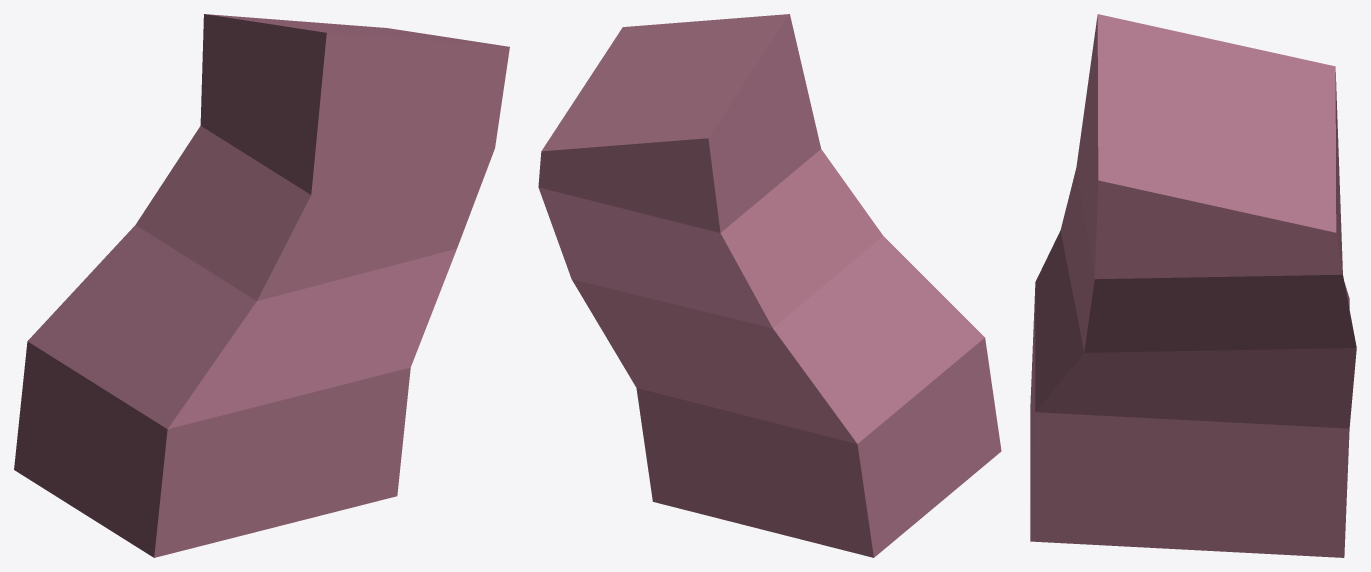
Rendered from Arch_02.fbx.
3 views of the same model, side by side, from view 1: azimuth 30°, elevation 25°; view 2: azimuth 150°, elevation 25°; view 3: azimuth 270°, elevation 25° (orthographic). The views are drawn at different scales.
Parts seen in each view (by area): view 1: Arch_02; view 2: Arch_02; view 3: Arch_02.
Part boxes in pixels (<box>): Arch_02: <box>14,14,509,557</box>; Arch_02: <box>538,14,1001,557</box>; Arch_02: <box>1030,14,1356,557</box>.
Size of the model in its own units: 603 by 699 by 394.
